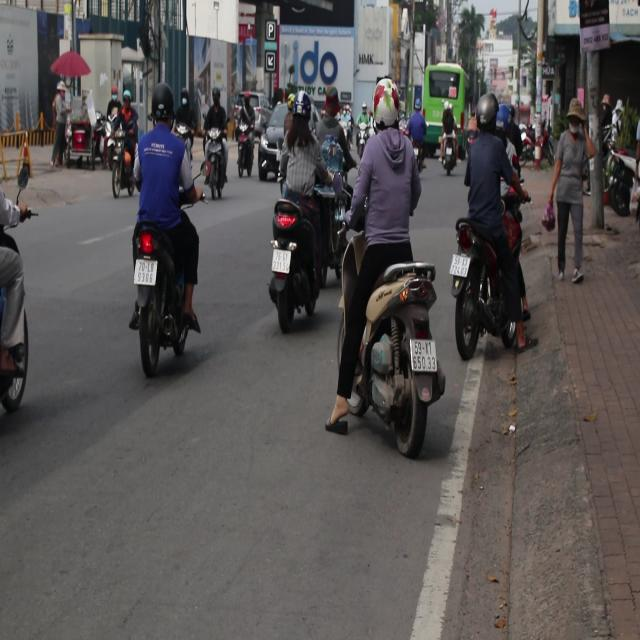bus: (426, 65, 470, 137)
car: (257, 102, 291, 181), (238, 92, 270, 124)
motorbike: (347, 259, 449, 457), (453, 209, 548, 371), (125, 214, 202, 348), (269, 196, 326, 334), (316, 174, 352, 266), (603, 144, 637, 218), (110, 131, 138, 199), (174, 120, 195, 200), (205, 131, 222, 196), (92, 116, 111, 171), (440, 130, 460, 178), (234, 124, 253, 174), (358, 109, 372, 168)
